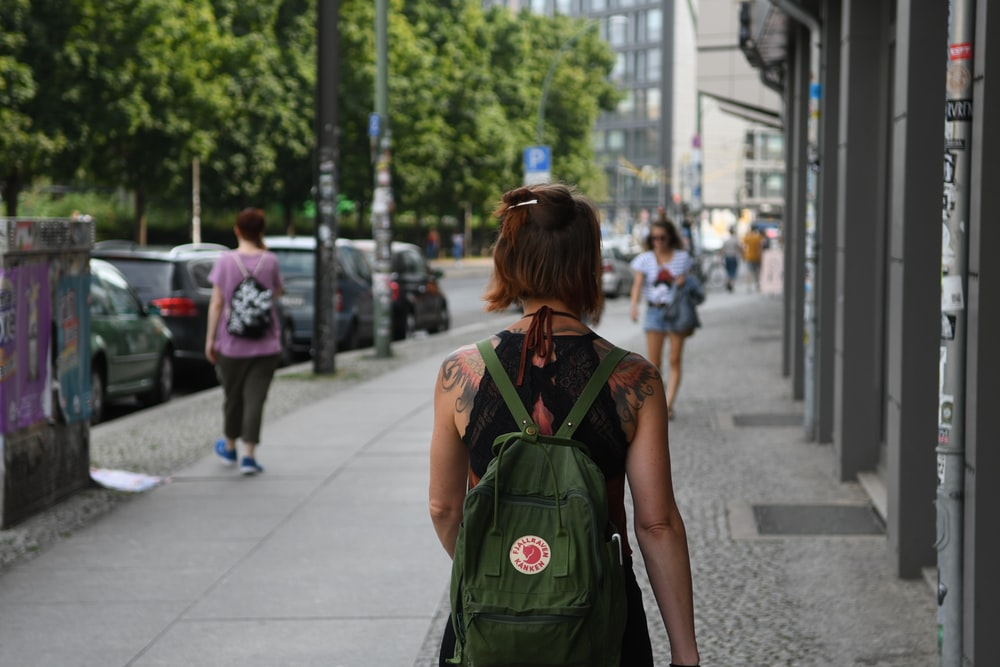person: (405, 173, 712, 667), (200, 202, 289, 482), (625, 214, 707, 410)
